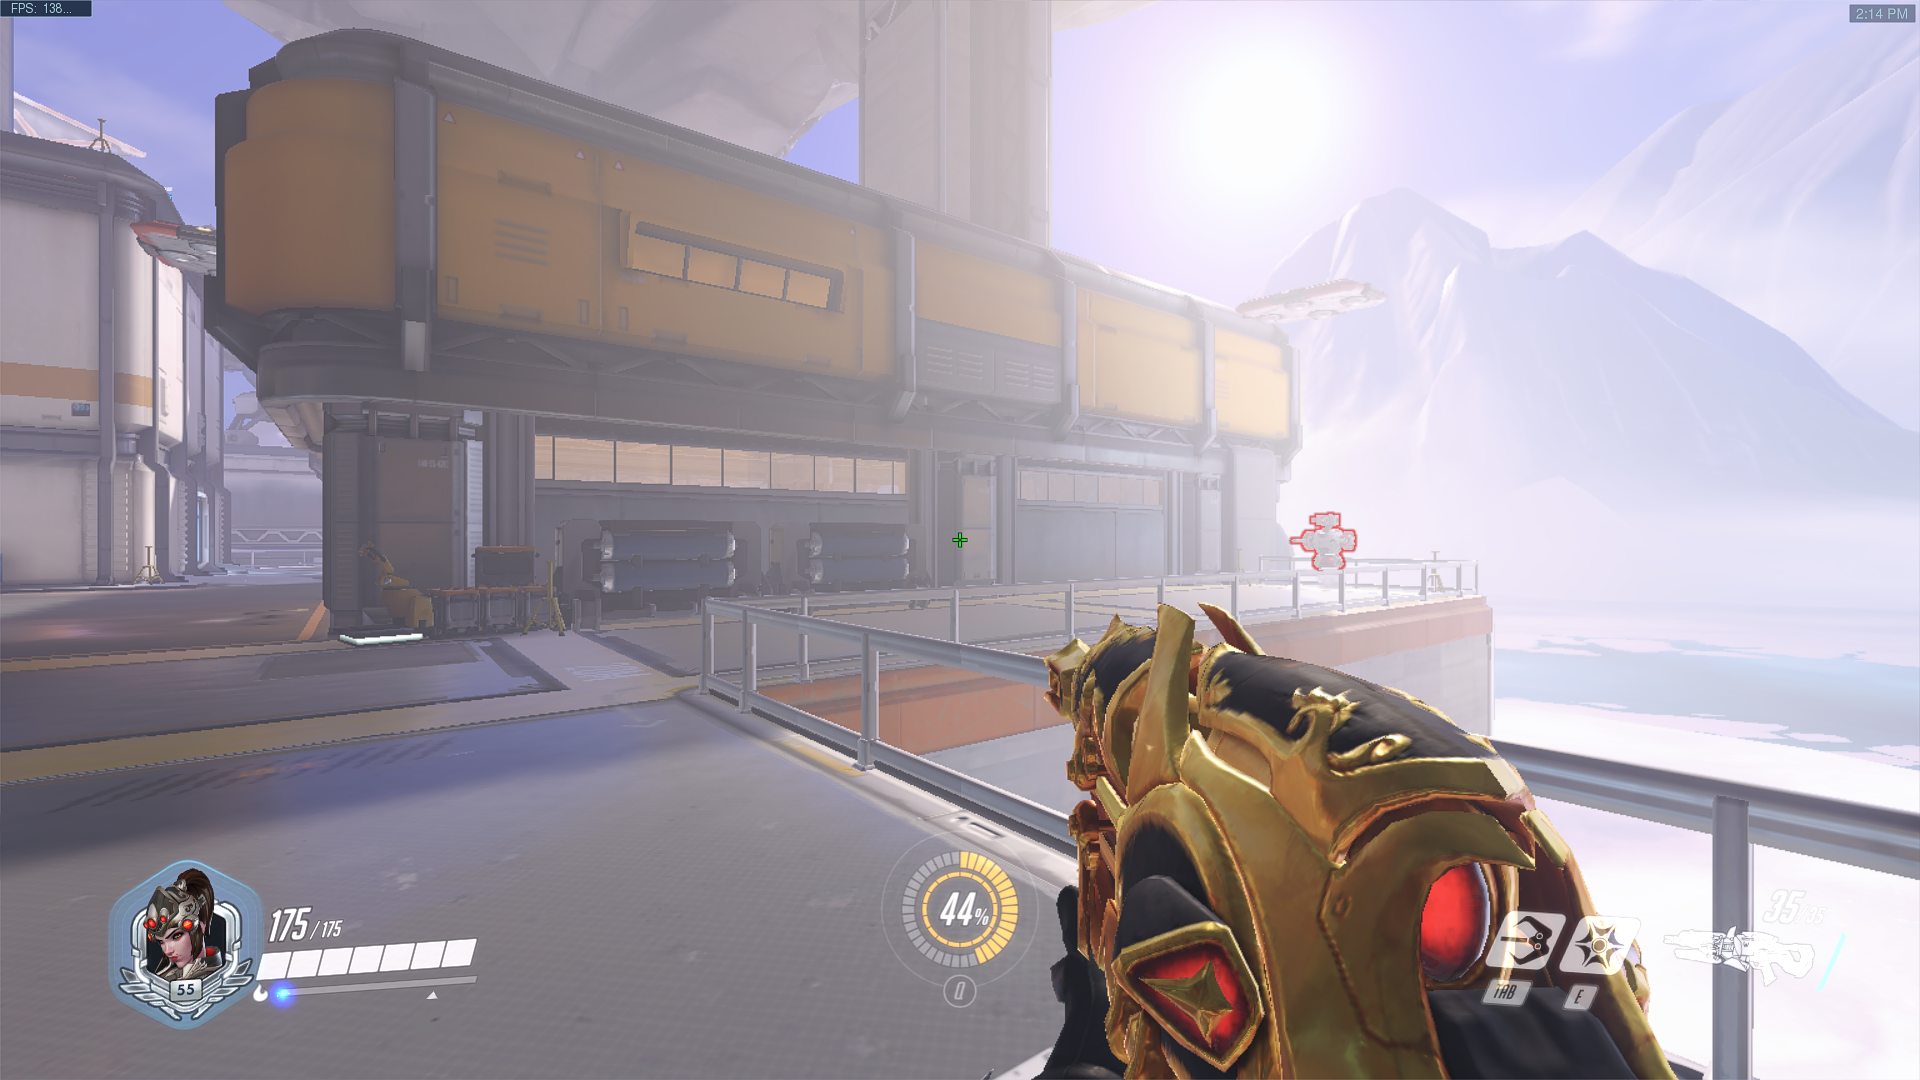head: (1297, 506, 1351, 539)
